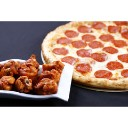pepperonipizza: (43, 21, 128, 88)
